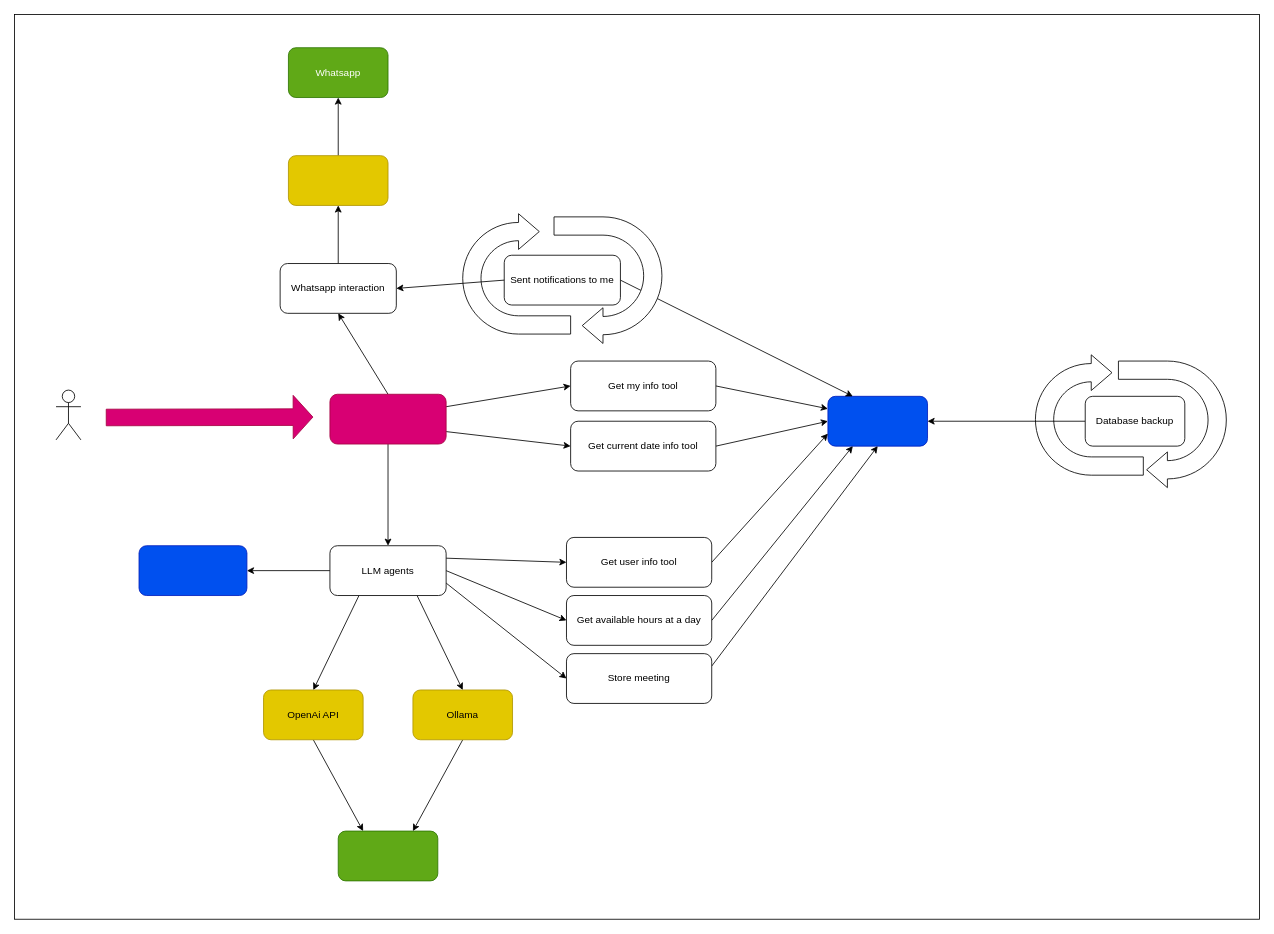
Image size: 1274x934. Some labels were removed from this diagram. The shapes that lost their labels are listed below. From the top down, each one's box as (x1, y1, x2, y2) in pixels, then its label:
(288, 155, 388, 205): Whatsapp Js
(55, 389, 81, 440): Actor
(329, 393, 446, 444): Chat service
(827, 395, 928, 446): Database
(138, 545, 247, 596): Assistent Prompt
(337, 830, 438, 881): LLM
